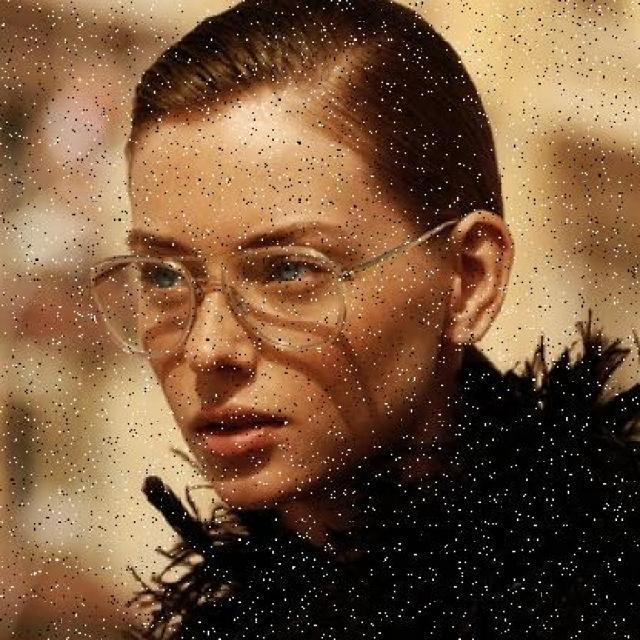mask: (80, 240, 366, 369)
